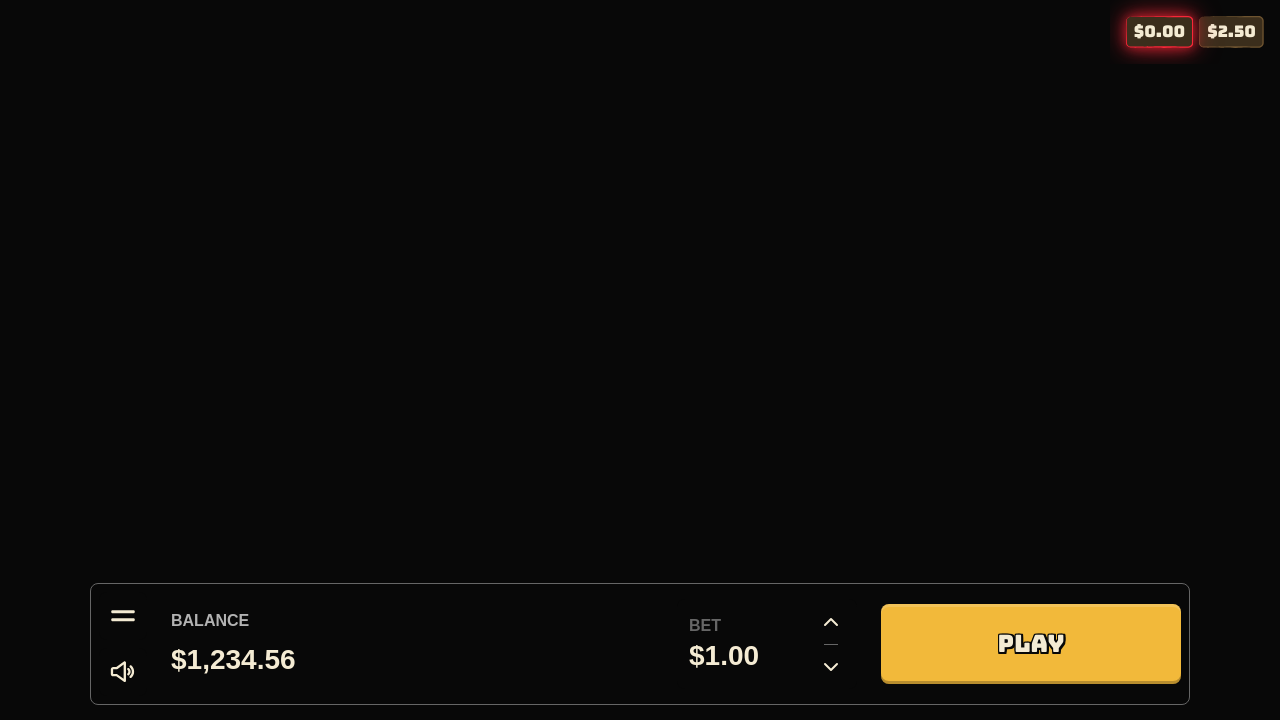
Test: UserInterface › the menu opens game info and closes with Escape
Click the button named "Menu".
click(123, 616)  # box [99, 592, 147, 640]
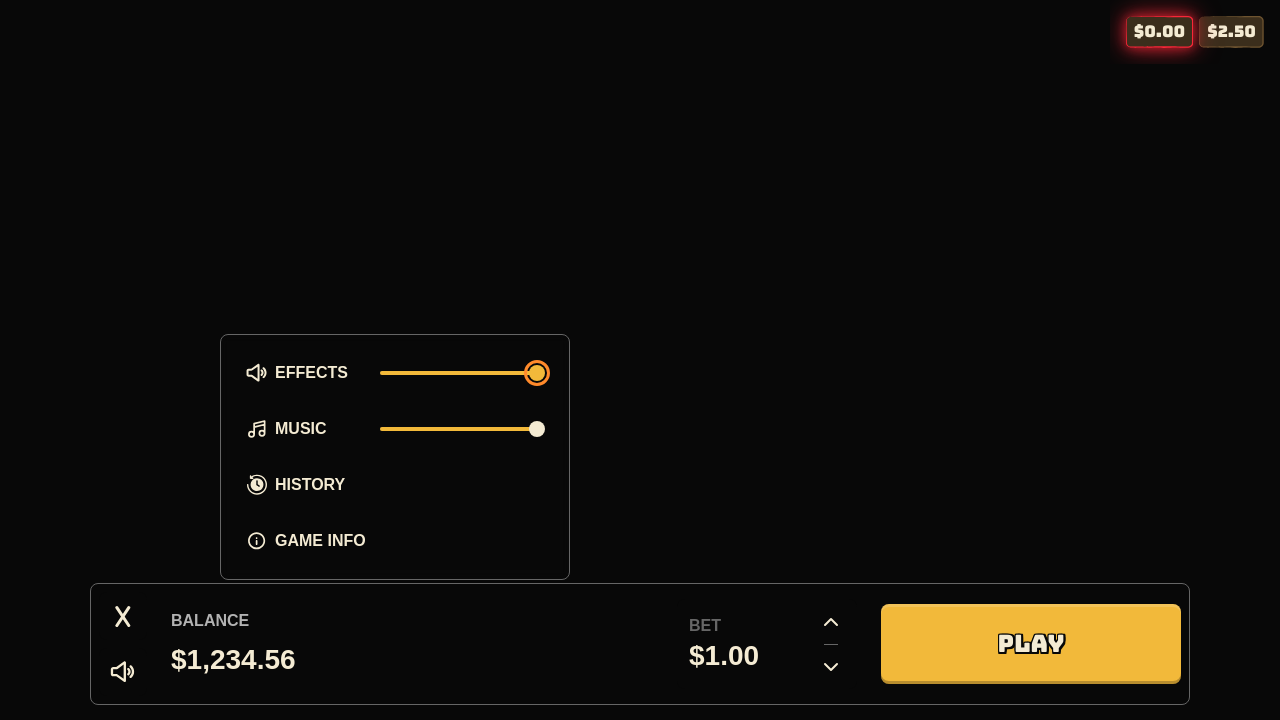
Click the button "Game info".
click(320, 540)  # box [245, 513, 545, 569]
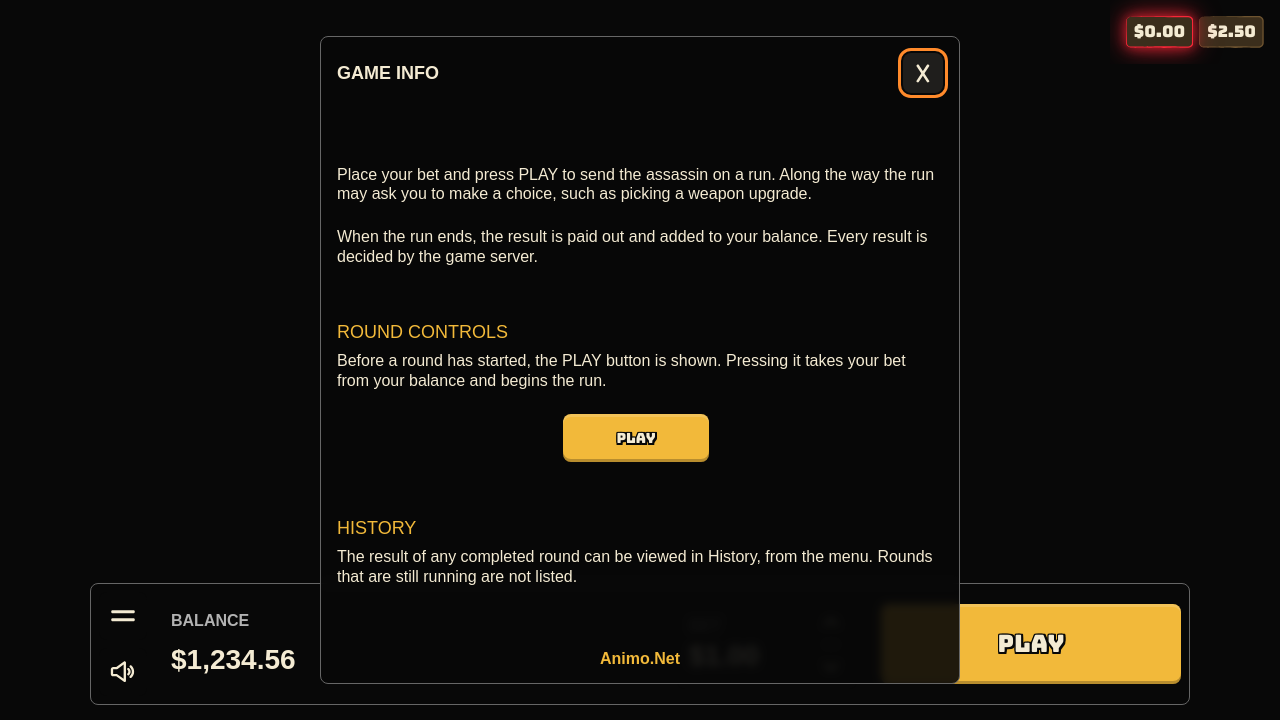
Expected: the dialog "GAME INFO" is shown, [320, 36, 960, 684]
Press Escape
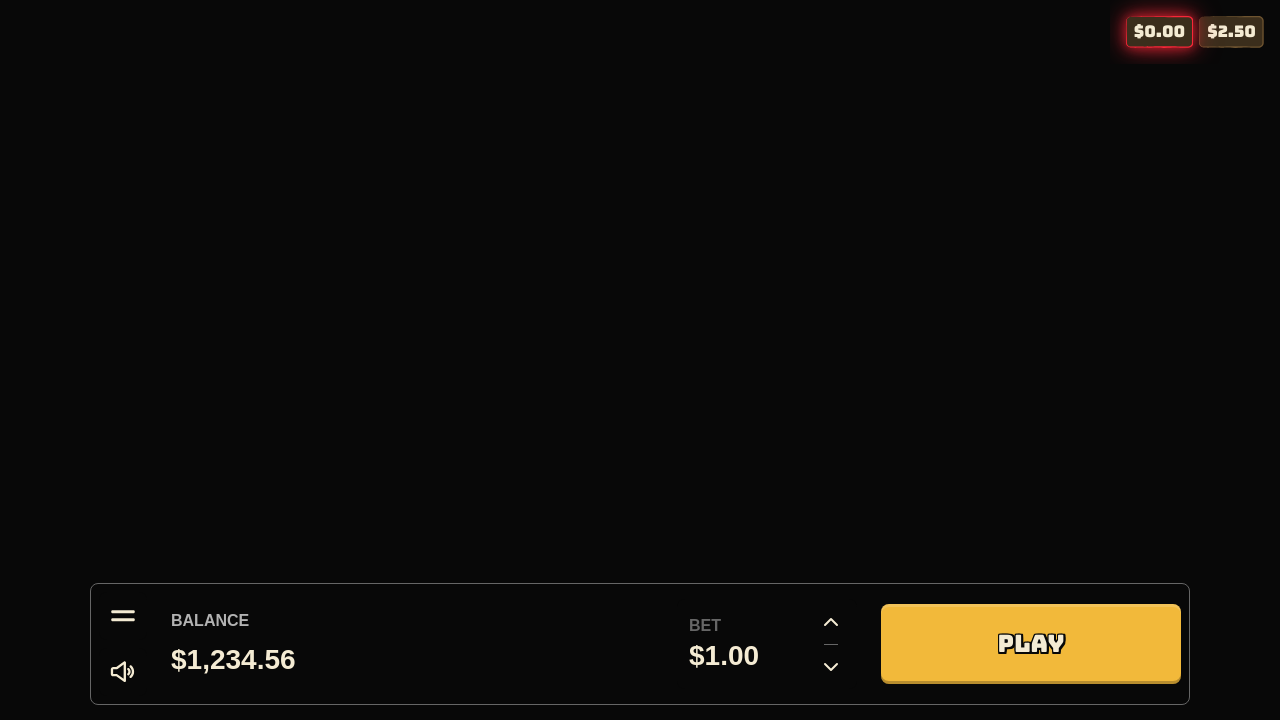
Expected: the heading "GAME INFO" is gone
